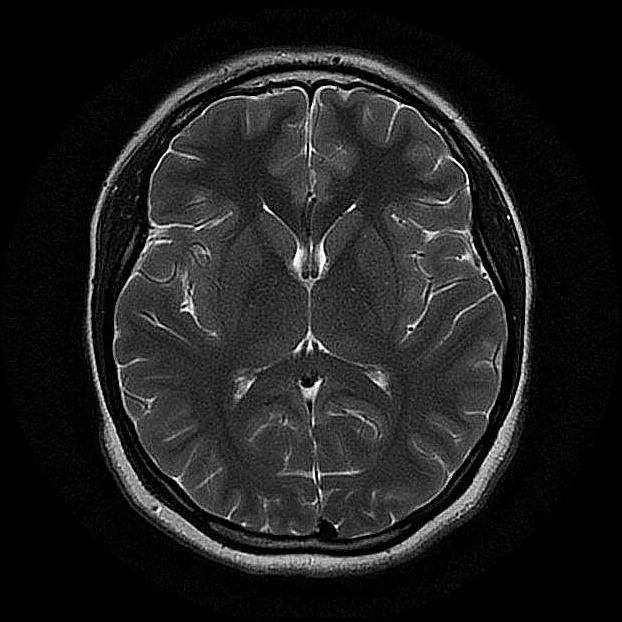Normal_Brain: (1, 1, 622, 622)
